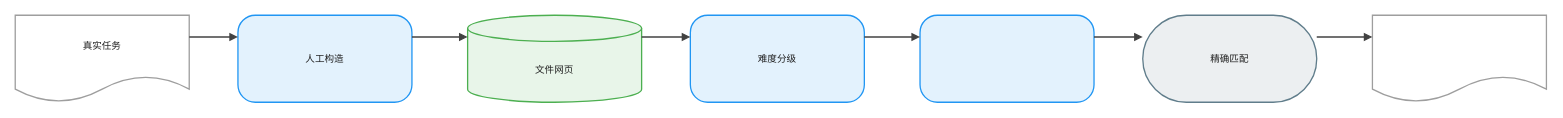
Image size: 1563x118. Some labels were removed from this diagram. The centre of each missing label's shape, as x and y in pixels:
"准确率" goes at (x=1459, y=58).
"零样本作答" goes at (x=1006, y=58).
